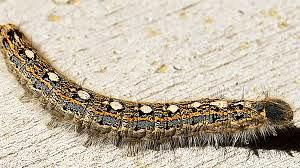Caterpillar: (0, 13, 295, 158)
